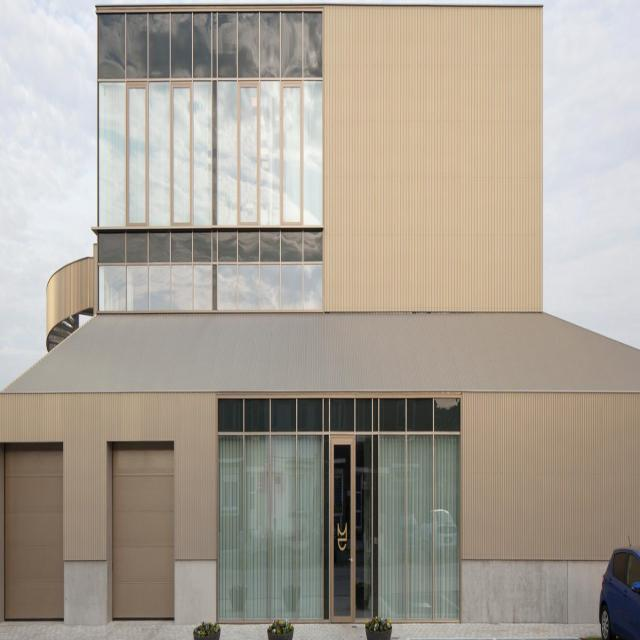door: (329, 428, 356, 626)
wall: (0, 0, 640, 630)
windows: (215, 395, 461, 621), (97, 0, 323, 227), (98, 262, 325, 314)
